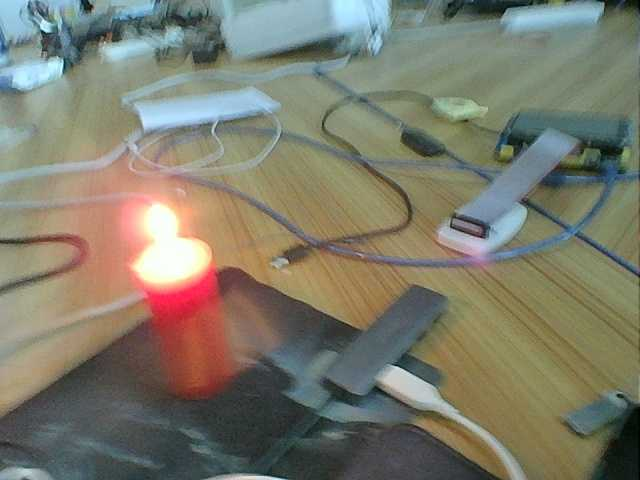candle: (130, 285, 231, 399)
fire: (126, 202, 207, 280)
